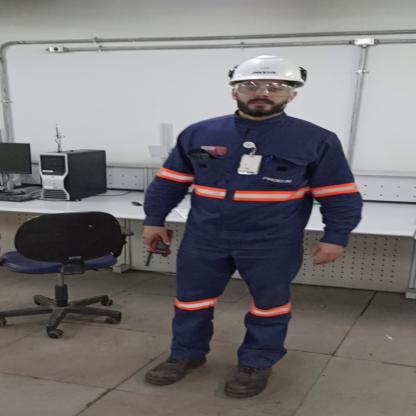Capacete: (223, 52, 311, 84)
